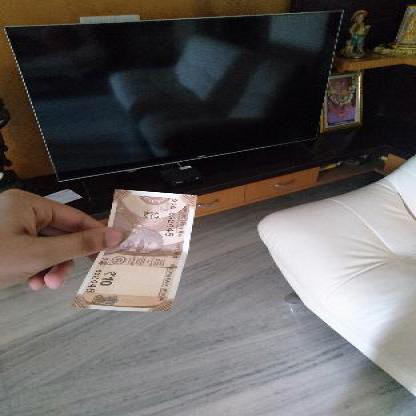New10Front: (76, 187, 189, 313)
